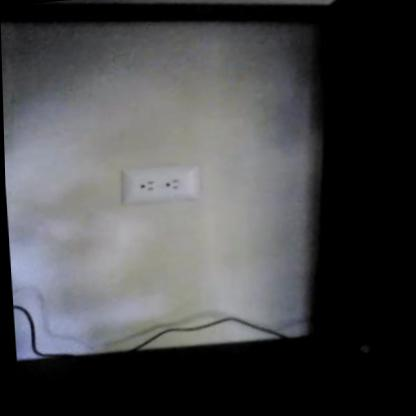OUTLET: (119, 162, 201, 207)
